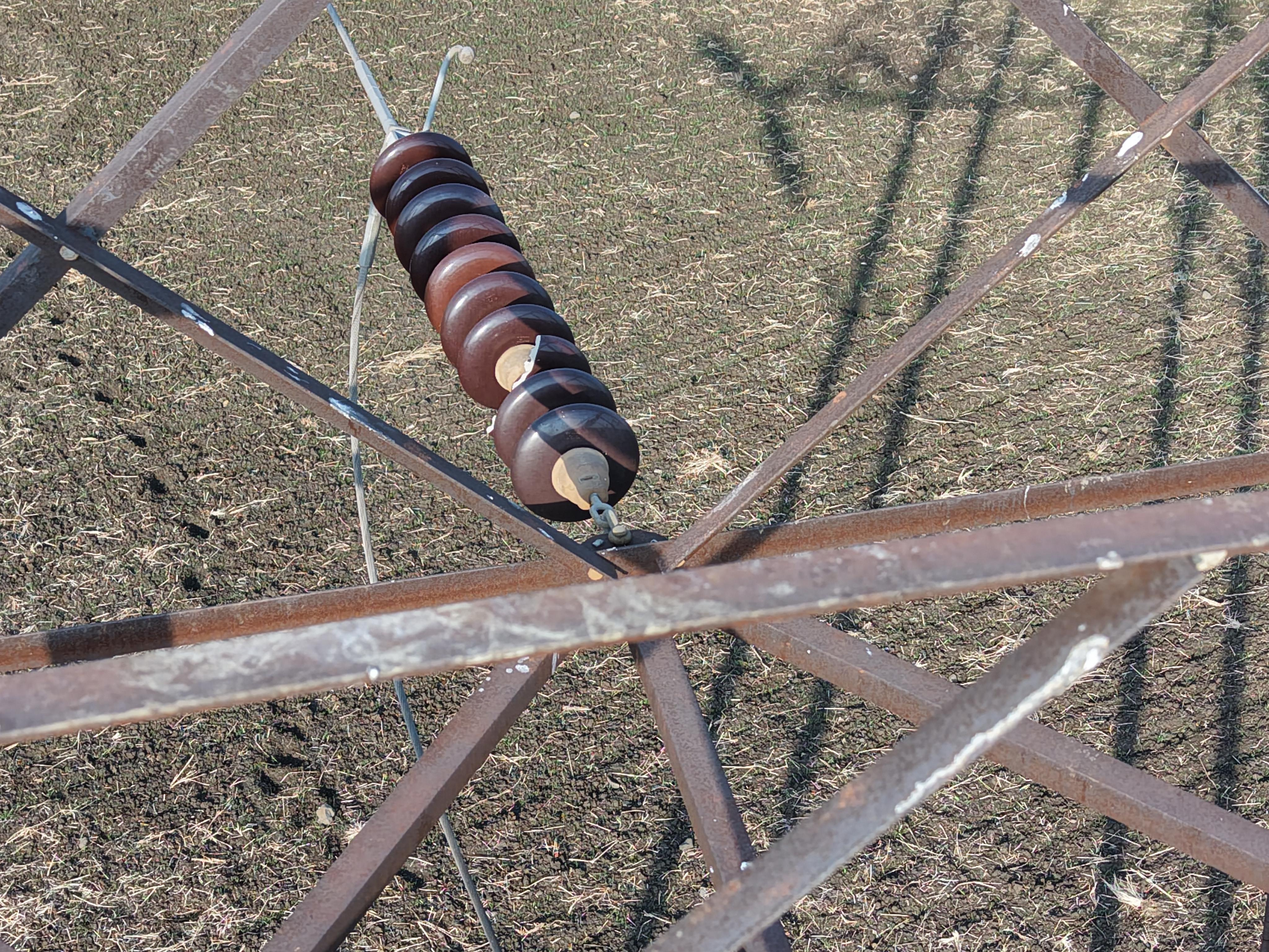broken_insulator: (486, 325, 612, 434)
